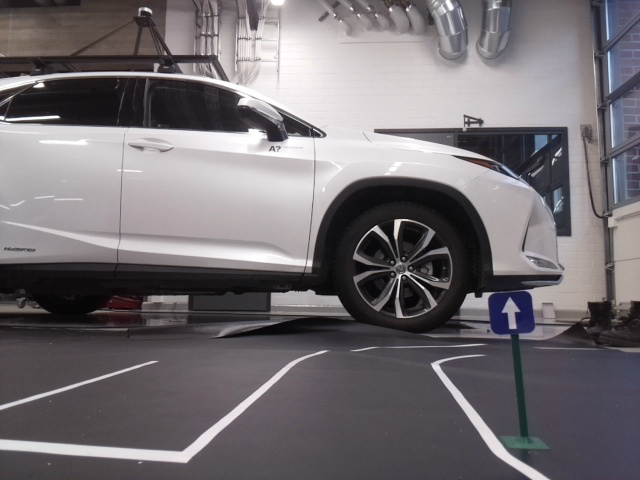OneWay: (489, 293, 534, 331)
